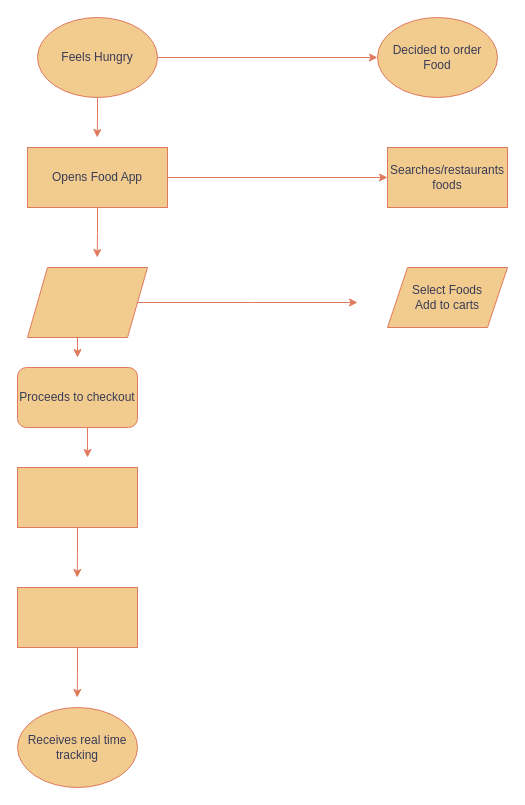
This 525x805 diagram has some shape labels left out. Here are the shapes that lost their labels. From the top down, the centre of each, then its label:
(87,302): Browses Items
(77,497): Get app updates with new features
(77,617): Orders Placed successfully
